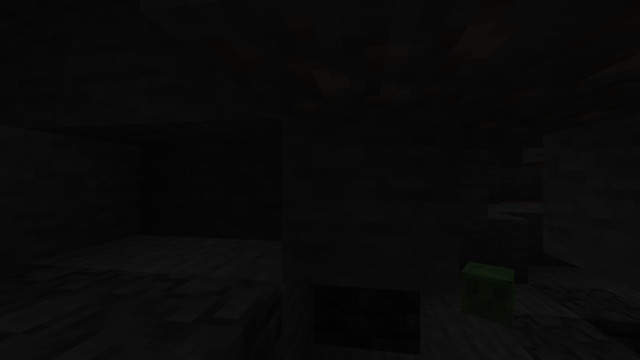slimes: (458, 261, 524, 323)
